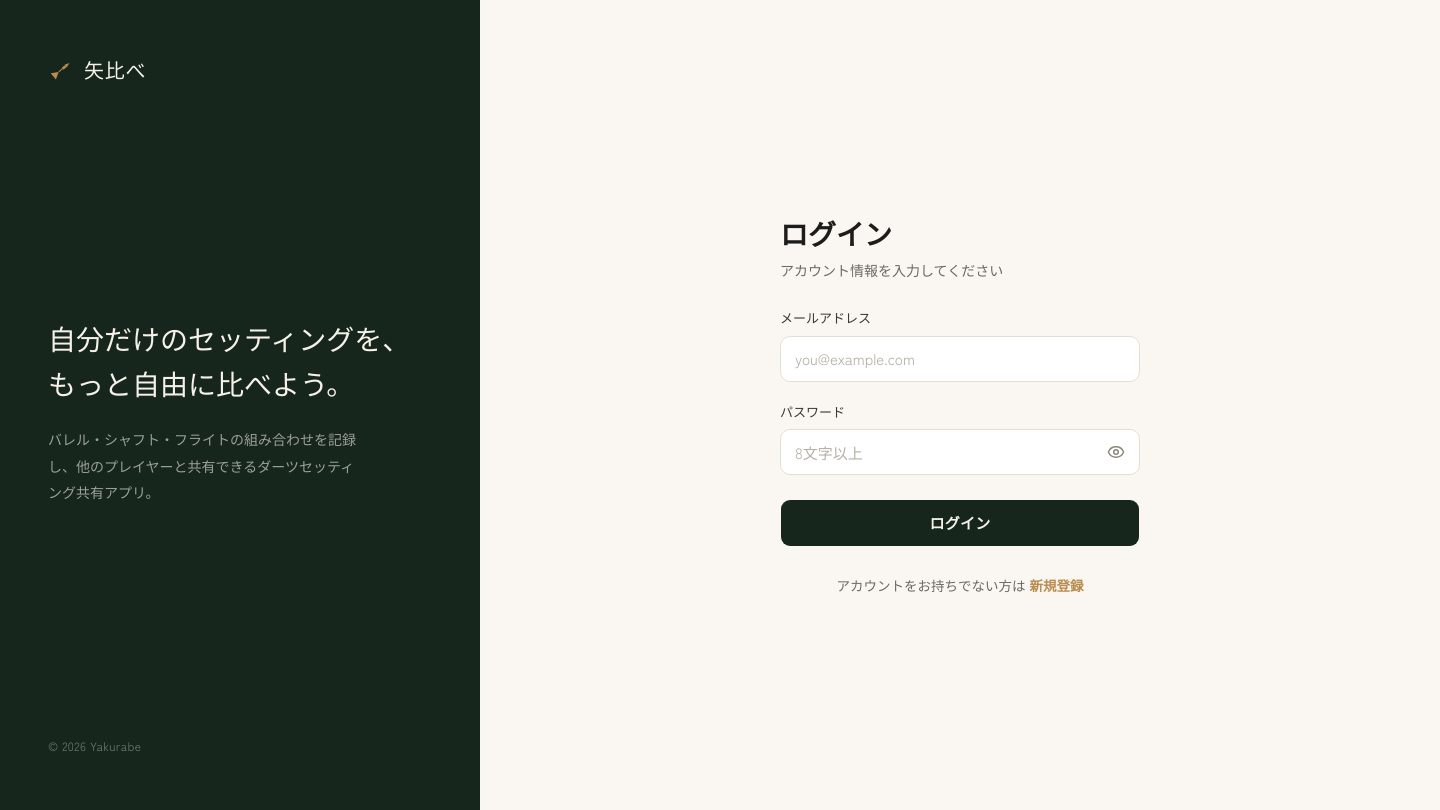
LoginPage › 空欄で送信するとバリデーションエラーが表示され、signInは呼ばれない
What coordinates should you click on to do the following:
click the button "ログイン"
I would click on:
 (960, 523)
Its box is [780,499,1140,547].
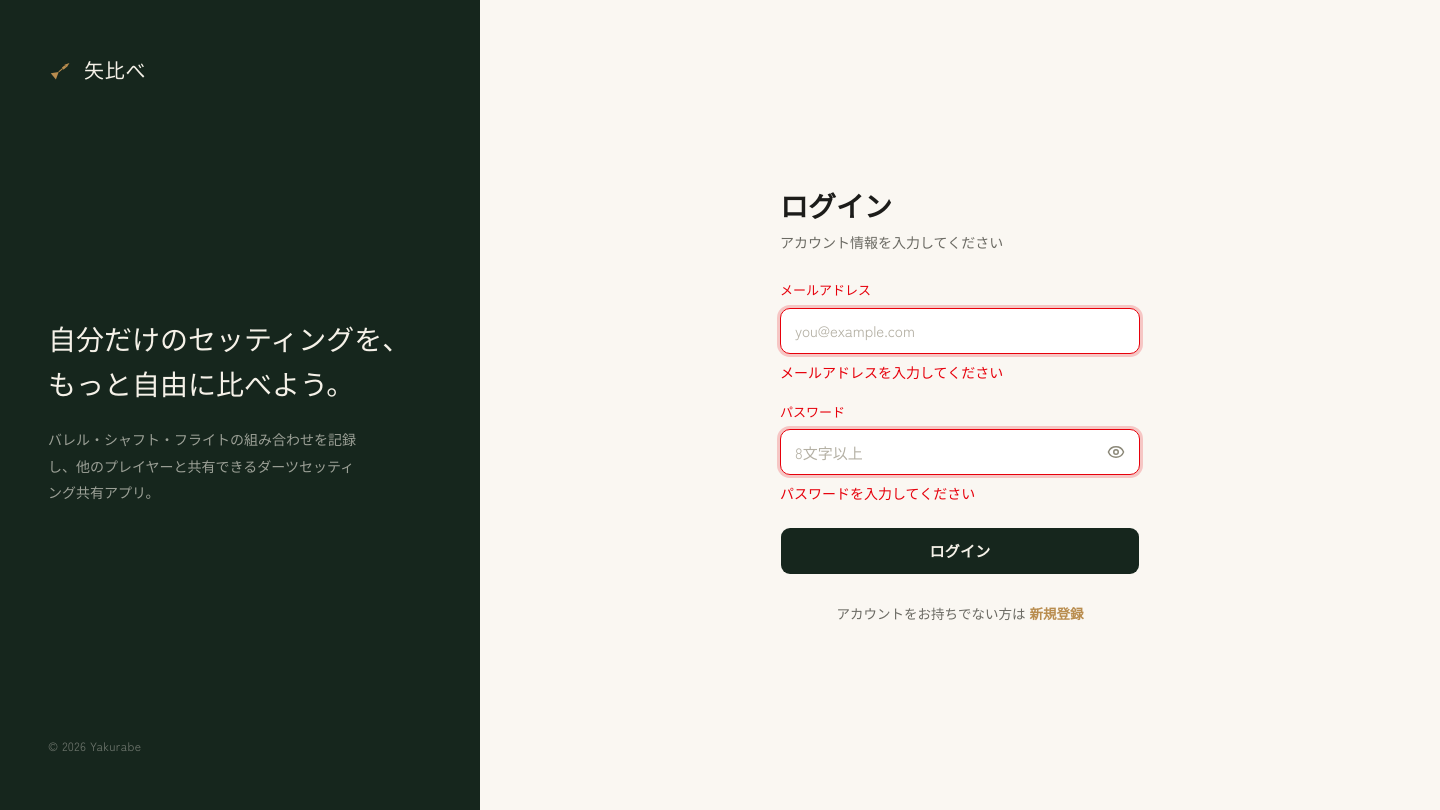
expect the text "メールアドレスを入力してください" is shown: met, box [780,362,1003,382]
expect the text "パスワードを入力してください" is shown: met, box [780,483,975,503]
